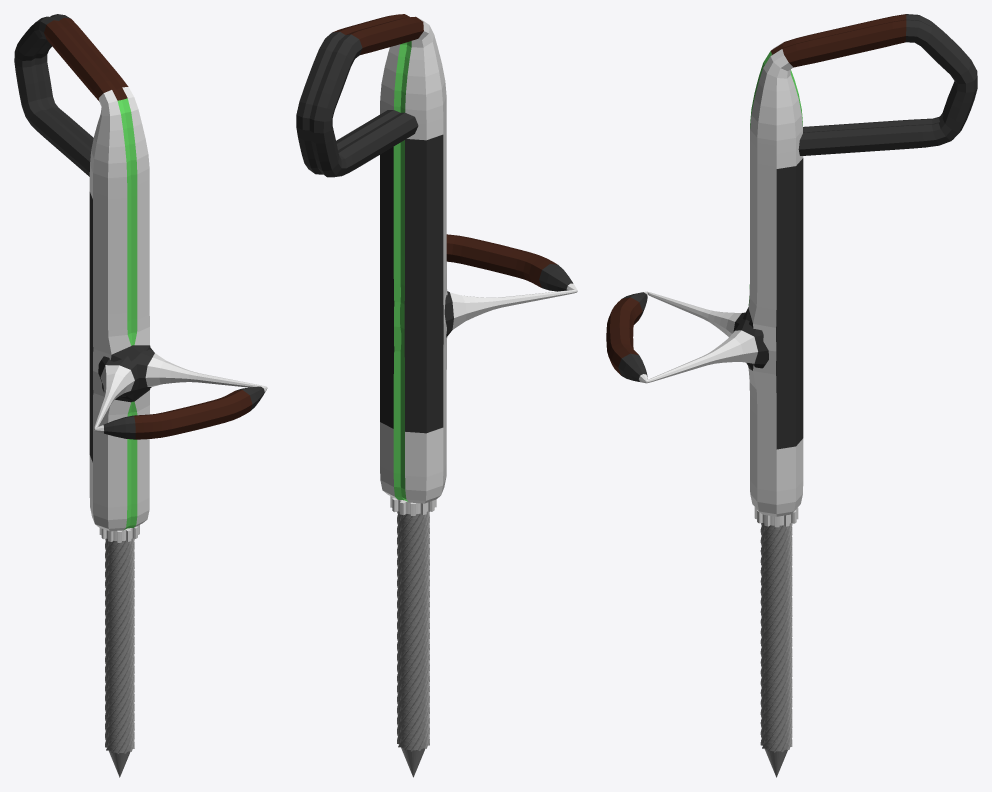
Rendered from drill.fbx.
The picture shows the model from 3 angles, left to right: view 1: azimuth 30°, elevation 25°; view 2: azimuth 150°, elevation 25°; view 3: azimuth 270°, elevation 25°; orthographic projection. The views are drawn at different scales.
Visible parts, largest first — view 1: Vert.001, Gear; view 2: Vert.001, Gear; view 3: Vert.001, Gear.
Part boxes in pixels (<box>): Vert.001: <box>14,14,267,531</box>; Gear: <box>99,525,139,777</box>; Vert.001: <box>296,14,577,503</box>; Gear: <box>390,496,436,777</box>; Vert.001: <box>606,14,977,516</box>; Gear: <box>754,507,798,777</box>.
Size of the model in its own units: 396 by 1565 by 693.
